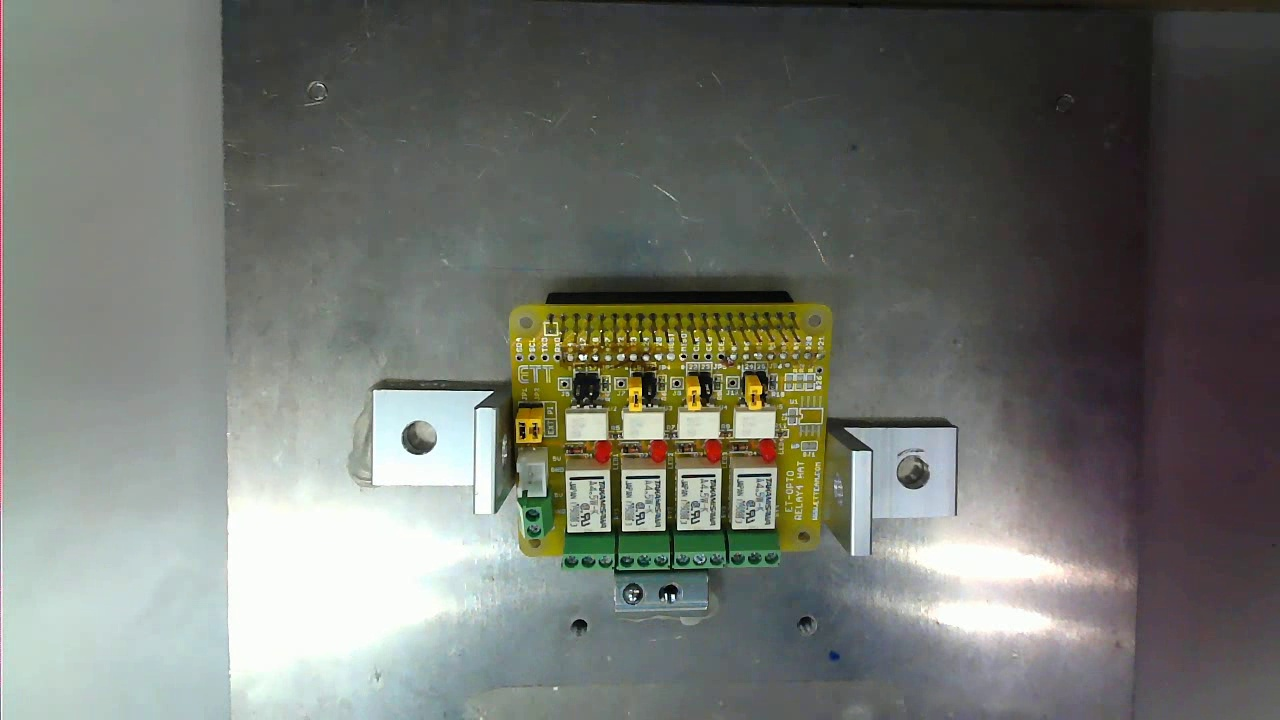can: (616, 451, 669, 531)
